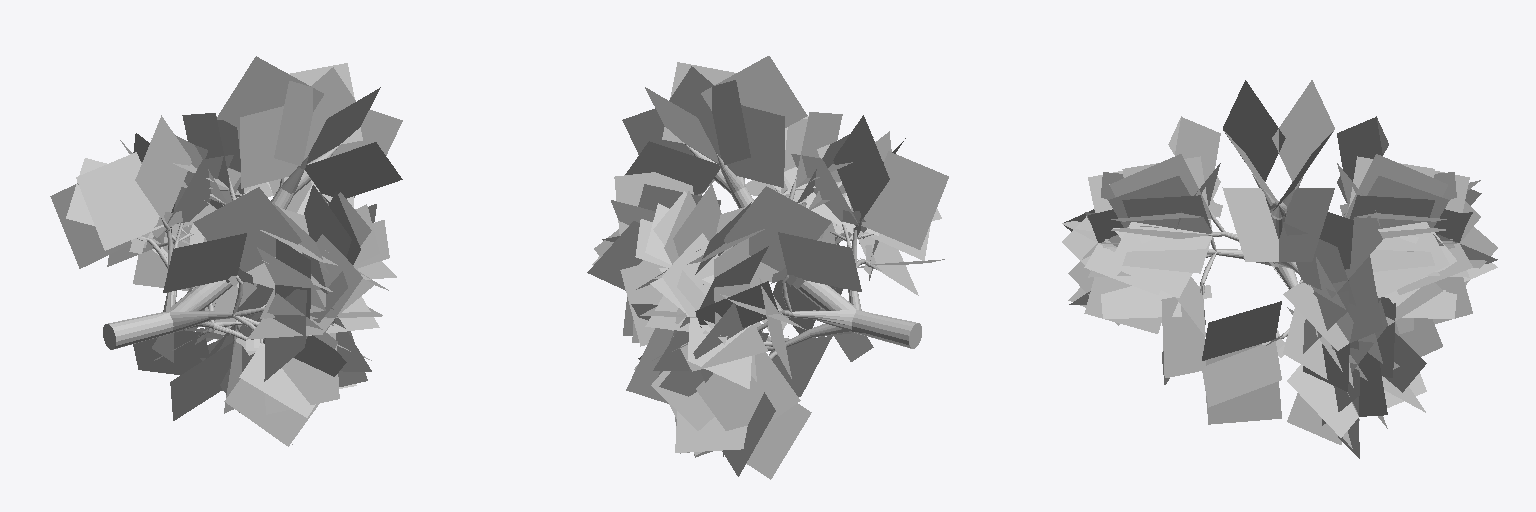
The model's file is test-input.txt.obj.
3 renders of one model, left to right at view 1: azimuth 30°, elevation 25°; view 2: azimuth 150°, elevation 25°; view 3: azimuth 270°, elevation 25°, orthographic.
Visible parts, largest first — view 1: Leaf, Trunk, Branch, Smallbranch; view 2: Leaf, Trunk, Branch, Smallbranch; view 3: Leaf, Branch.
Part boxes in pixels (x1,y1,x2,y2): Leaf: (50, 56, 402, 446); Trunk: (103, 145, 339, 349); Branch: (163, 156, 308, 332); Smallbranch: (137, 178, 263, 349); Leaf: (587, 56, 948, 479); Trunk: (685, 144, 921, 348); Branch: (716, 153, 861, 350); Smallbranch: (754, 177, 876, 359); Leaf: (1062, 80, 1497, 458); Branch: (1207, 174, 1310, 289).
Size of the model in its own units: 4.28 by 5.13 by 5.51.